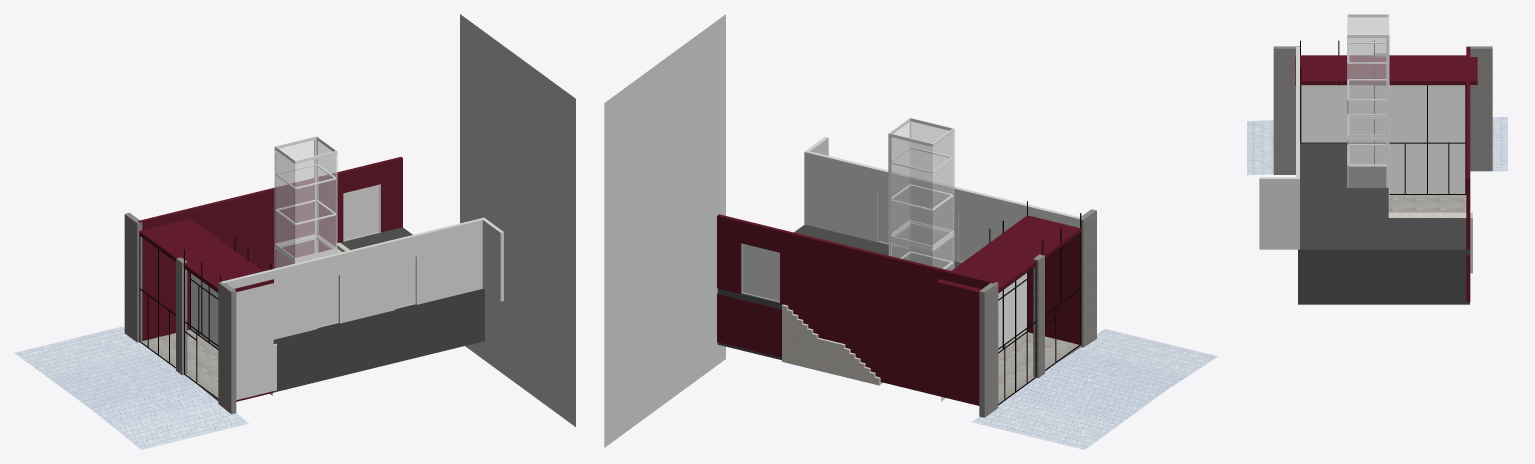
Rendered from klp.glb.
The picture shows the model from 3 angles, left to right: view 1: azimuth 30°, elevation 25°; view 2: azimuth 150°, elevation 25°; view 3: azimuth 270°, elevation 25°; orthographic projection. The views are drawn at different scales.
Visible parts, largest first — view 1: CEILIN INNER REAR, GROUND, A_27B___E_E.492, ENTRANCE FLOOR BACK, A_27B___E_E.301, A_40___BE_E.005, CEILING INNER RED, A_27B___E_E.458, FACADE PILLAR RIGHT, FACADE PILLAR LEFT, A_27B___E_E.082, ENTRANCE FLOOR FRONT (+9 smaller); view 2: CEILIN INNER REAR, A_27B___E_E.301, GROUND, A_27B___E_E.492, A_27B___E_E.082, A_40___BE_E.005, CEILING INNER RED, WALL RIGHT, A_27B___E_E.239, FACADE PILLAR LEFT, ENTRANCE FLOOR FRONT, ENTRANCE FLOOR BACK (+11 smaller); view 3: ENTRANCE FLOOR BACK, GLASS, A_40___BE_E.005, CEILING INNER RED, A_27B___E_E.459, FACADE PILLAR RIGHT, FACADE PILLAR LEFT, A_40___BE_E.003, GROUND, A_40___BE_E.004, ENTRANCE FLOOR FRONT, A_27B___E_E.301 (+5 smaller).
Boxes of the visible parts, x1,y1,x2,y2 form: CEILIN INNER REAR: (460,14,575,426); GROUND: (14,326,248,449); A_27B___E_E.492: (272,218,482,339); ENTRANCE FLOOR BACK: (273,227,484,392); A_27B___E_E.301: (189,157,402,263); A_40___BE_E.005: (274,140,337,260); CEILING INNER RED: (139,218,273,291); A_27B___E_E.458: (221,269,273,348); FACADE PILLAR RIGHT: (218,282,236,414); FACADE PILLAR LEFT: (124,212,142,342); A_27B___E_E.082: (142,244,334,340); ENTRANCE FLOOR FRONT: (141,329,218,397); CEILIN INNER REAR: (604,14,725,447); A_27B___E_E.301: (717,214,941,342); GROUND: (972,329,1217,449); A_27B___E_E.492: (808,151,1028,261); A_27B___E_E.082: (717,293,979,405); A_40___BE_E.005: (889,121,954,248); CEILING INNER RED: (936,215,1081,295); WALL RIGHT: (1027,234,1079,344); A_27B___E_E.239: (940,268,995,351); FACADE PILLAR LEFT: (979,282,998,417); ENTRANCE FLOOR FRONT: (998,332,1078,403); ENTRANCE FLOOR BACK: (717,224,961,360); ENTRANCE FLOOR BACK: (1298,143,1469,304); GLASS: (1301,85,1465,193); A_40___BE_E.005: (1347,15,1389,137); CEILING INNER RED: (1295,55,1477,84); A_27B___E_E.459: (1259,177,1299,249); FACADE PILLAR RIGHT: (1273,46,1299,174); FACADE PILLAR LEFT: (1466,46,1492,171); A_40___BE_E.003: (1347,120,1389,202); GROUND: (1247,117,1507,175); A_40___BE_E.004: (1347,14,1389,137); ENTRANCE FLOOR FRONT: (1389,195,1466,212); A_27B___E_E.301: (1466,72,1470,249).
Bounding box in the file's own units: 26378 × 18330 × 13499.
Materials: 11 (4 with a texture image).
